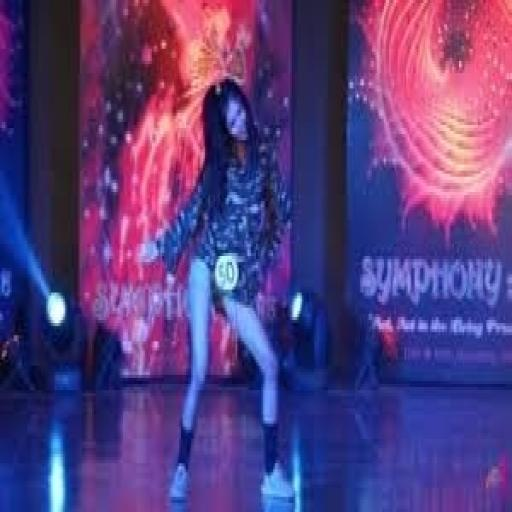dancing: (143, 73, 299, 506)
